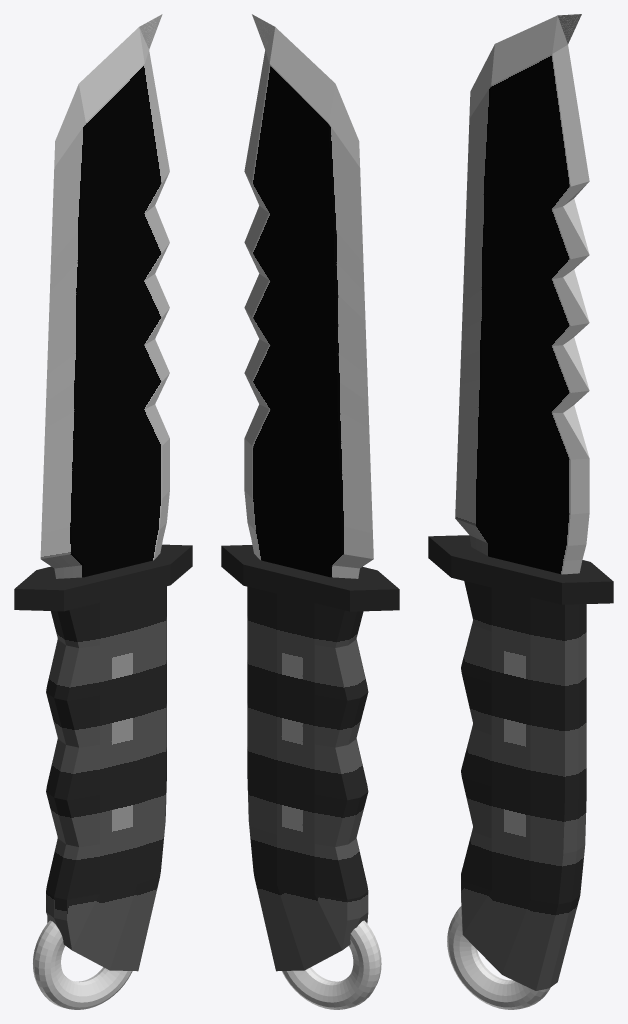
Rendered from Faca.glb.
3 views of the same model, side by side, from view 1: azimuth 30°, elevation 25°; view 2: azimuth 150°, elevation 25°; view 3: azimuth 330°, elevation 25° (orthographic). The views are drawn at different scales.
Visible parts, largest first — view 1: Lamina, Base, Nao-sei-o-nome-dessa-parte-da-faca, Torus; view 2: Lamina, Base, Nao-sei-o-nome-dessa-parte-da-faca, Torus; view 3: Lamina, Base, Nao-sei-o-nome-dessa-parte-da-faca, Torus.
Boxes of the visible parts, bbox=[...] form: Lamina: bbox=[40, 14, 169, 578]; Base: bbox=[46, 586, 166, 971]; Nao-sei-o-nome-dessa-parte-da-faca: bbox=[14, 544, 192, 611]; Torus: bbox=[33, 920, 132, 1009]; Lamina: bbox=[244, 14, 373, 578]; Base: bbox=[247, 586, 368, 971]; Nao-sei-o-nome-dessa-parte-da-faca: bbox=[221, 545, 399, 611]; Torus: bbox=[282, 920, 381, 1009]; Lamina: bbox=[455, 14, 589, 574]; Base: bbox=[461, 581, 586, 990]; Nao-sei-o-nome-dessa-parte-da-faca: bbox=[428, 535, 613, 604]; Torus: bbox=[447, 906, 550, 1009].
Bounding box in the file's own units: 3.15 × 16.48 × 0.8448.
Materials: 3 (3 with a texture image).
